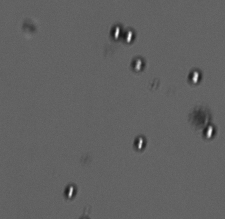Dead Cell: (188, 106, 210, 130)
Living Cell: (130, 132, 151, 153), (62, 182, 79, 201), (129, 55, 146, 73), (201, 121, 215, 140), (187, 68, 202, 85), (110, 22, 122, 42), (123, 27, 136, 45)
